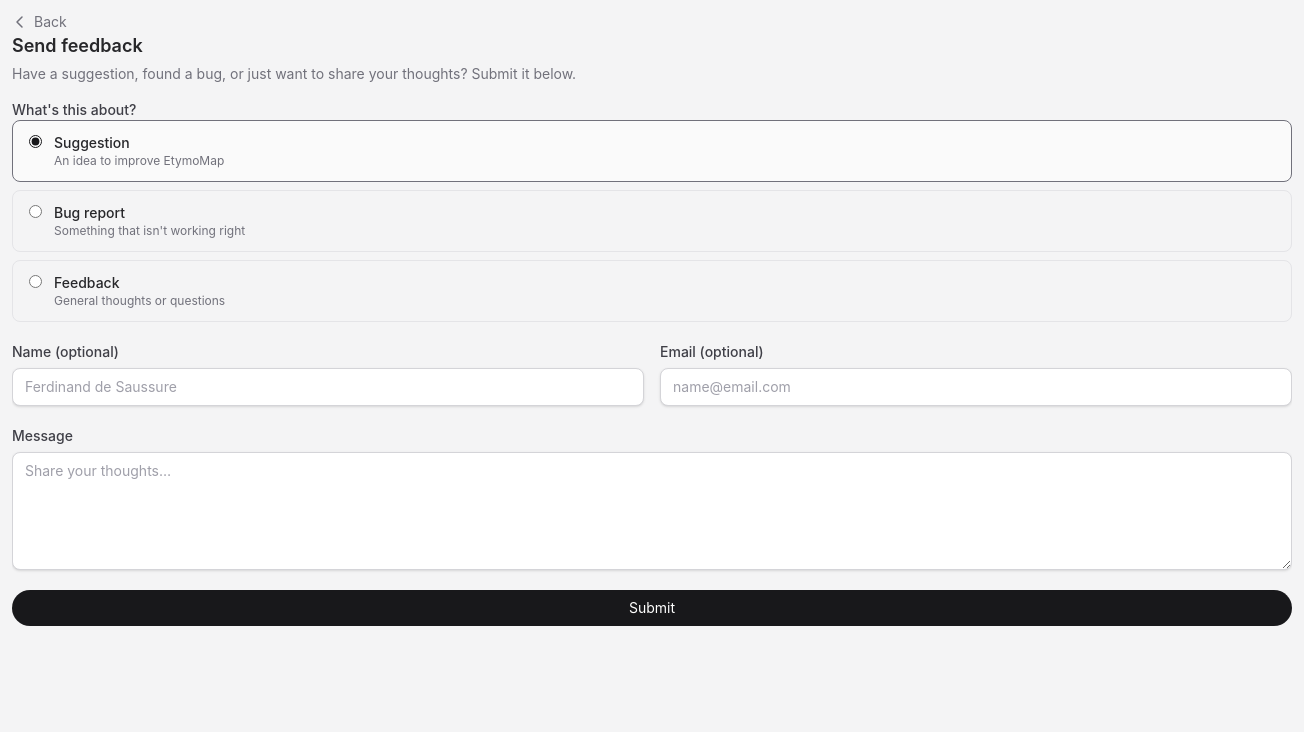
Scenario: FeedbackPage › shows a fallback message when the network fails
Type "hello world" into the text box with placeholder "Share your thoughts…".
click(652, 511); type("hello world")  # box [12,452,1292,570]
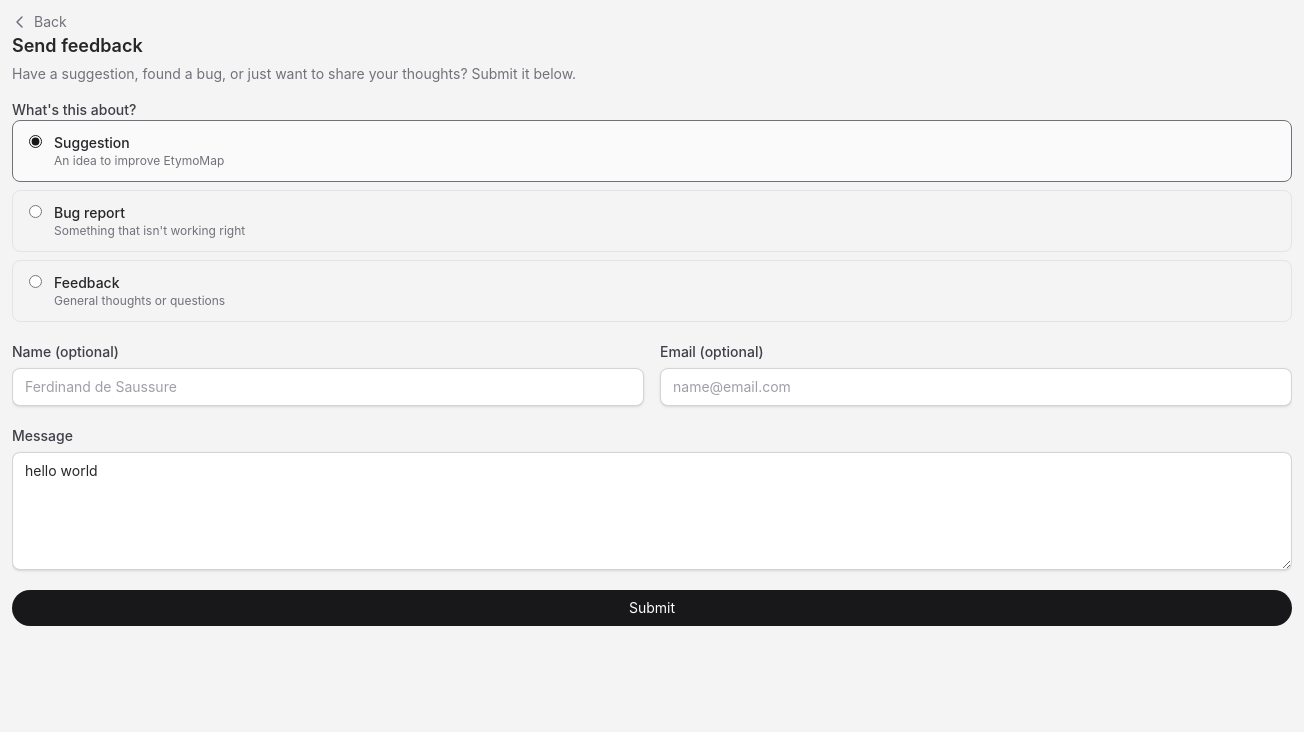
Click the button "Submit".
click(652, 608)  # box [12,590,1292,626]
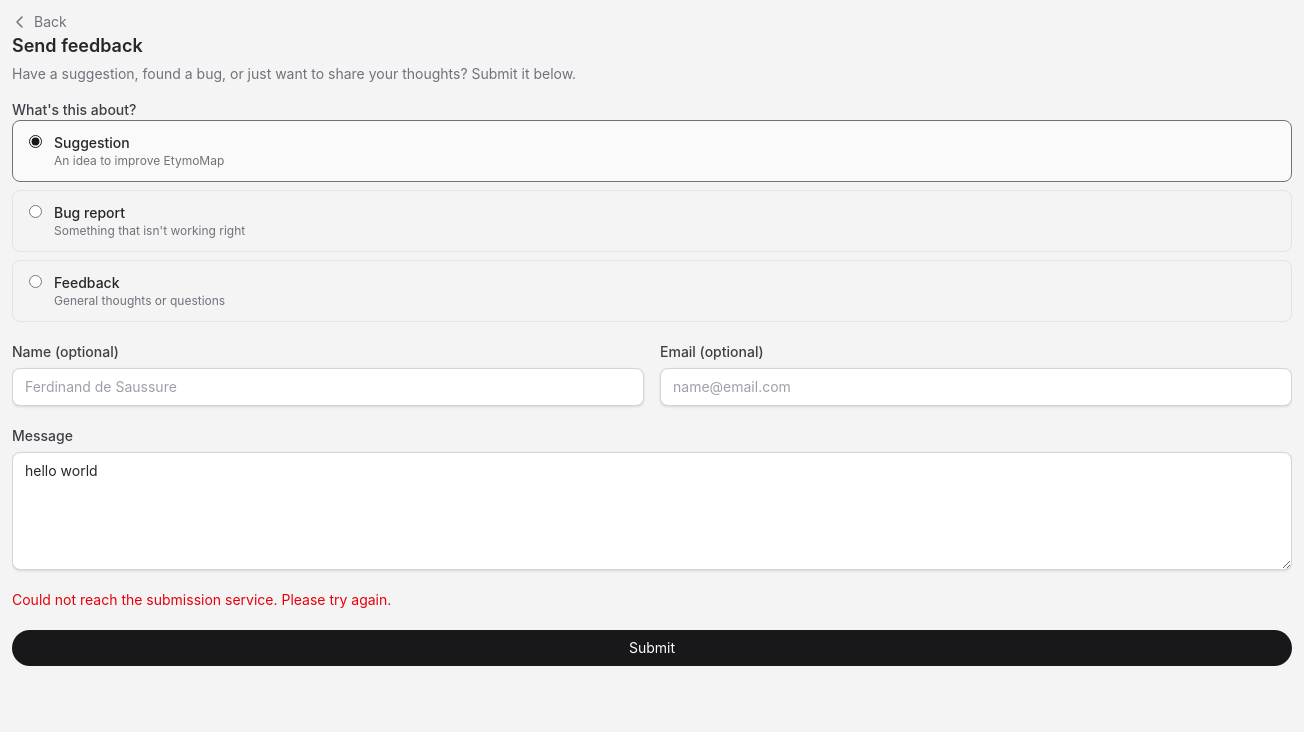
Now the message shows "Could not reach the submission service.", box [12,591,391,608]
